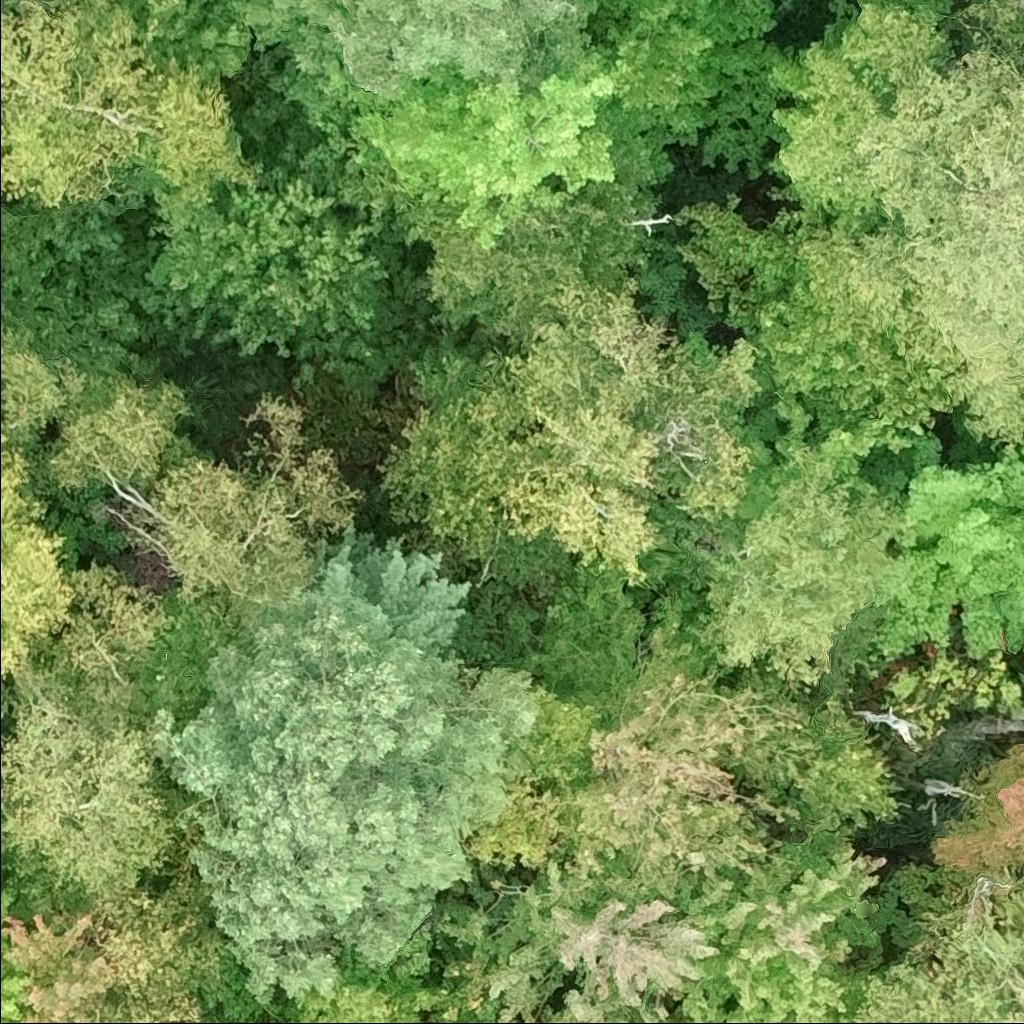crown: (142, 517, 542, 1009), (374, 272, 770, 590), (342, 0, 789, 250), (800, 4, 1023, 451), (555, 584, 837, 873), (674, 191, 955, 439), (320, 154, 662, 337), (0, 0, 266, 232), (686, 441, 912, 698), (131, 391, 371, 625), (135, 162, 411, 362), (438, 841, 721, 1023), (0, 661, 190, 909), (771, 0, 963, 237), (676, 831, 890, 1023), (236, 0, 599, 106), (865, 429, 1023, 662), (61, 821, 232, 1023), (32, 561, 183, 731), (736, 700, 906, 839), (860, 898, 1023, 1023), (0, 423, 80, 677), (45, 367, 200, 497), (926, 741, 1023, 906), (0, 911, 118, 1023), (0, 310, 100, 439), (283, 962, 445, 1023), (0, 852, 44, 1023), (519, 969, 578, 1023), (957, 0, 1023, 25), (997, 883, 1023, 932), (434, 1007, 461, 1023)
